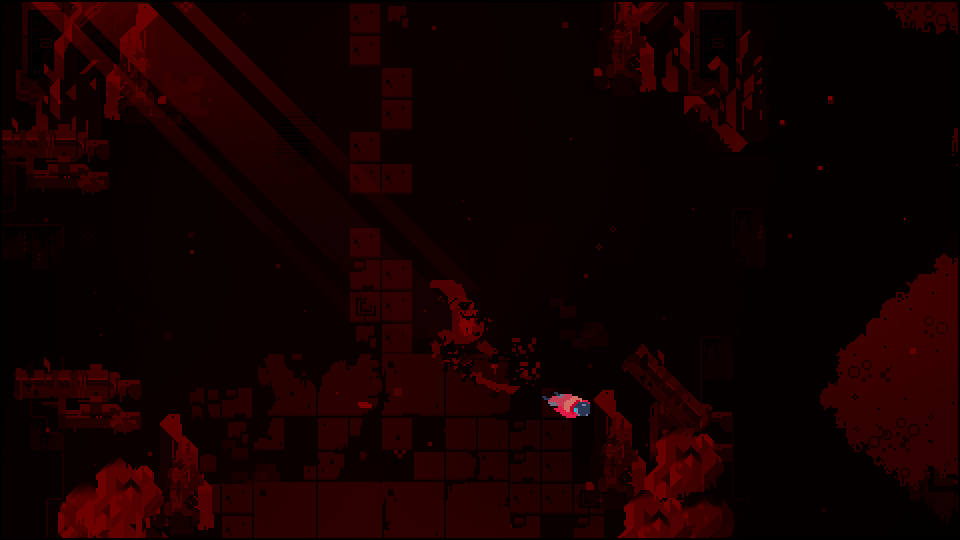player: (546, 395, 595, 426)
